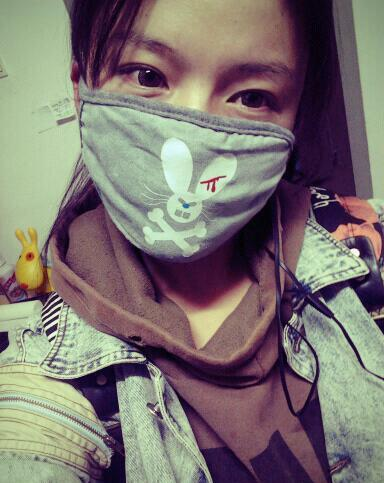OK: (86, 22, 309, 245)
